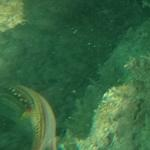dead: (3, 3, 146, 146)
